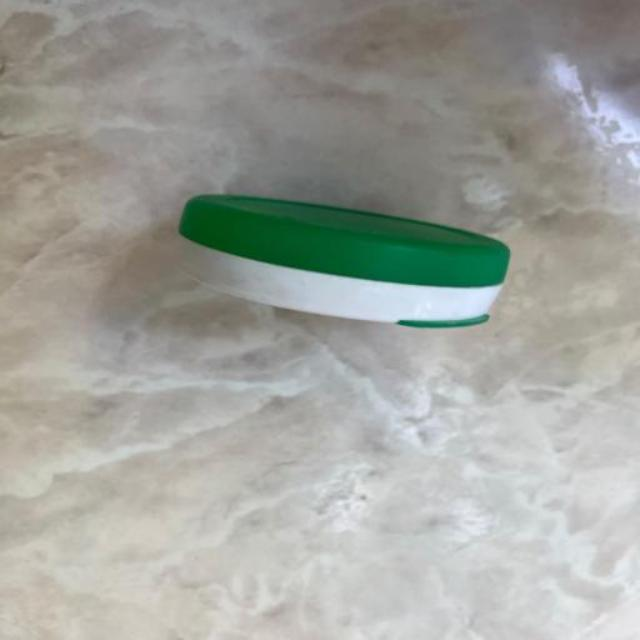HDPE: (160, 158, 536, 376)
